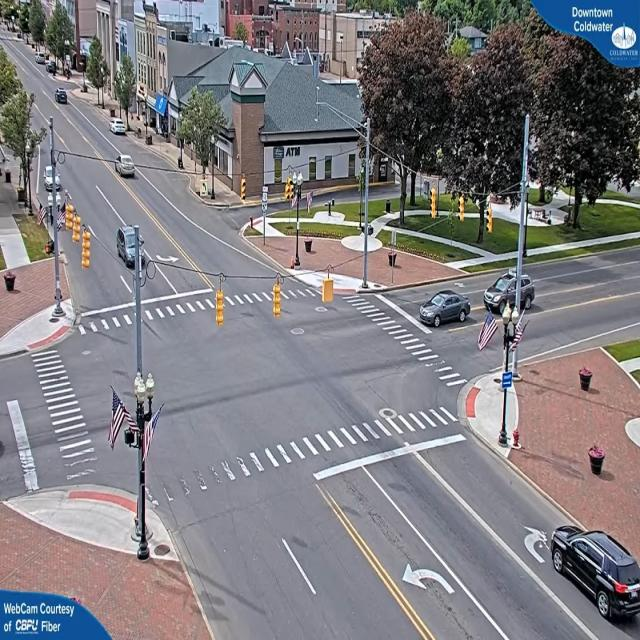car: (551, 529, 640, 626), (419, 290, 471, 328), (114, 154, 138, 178), (111, 120, 128, 136)
